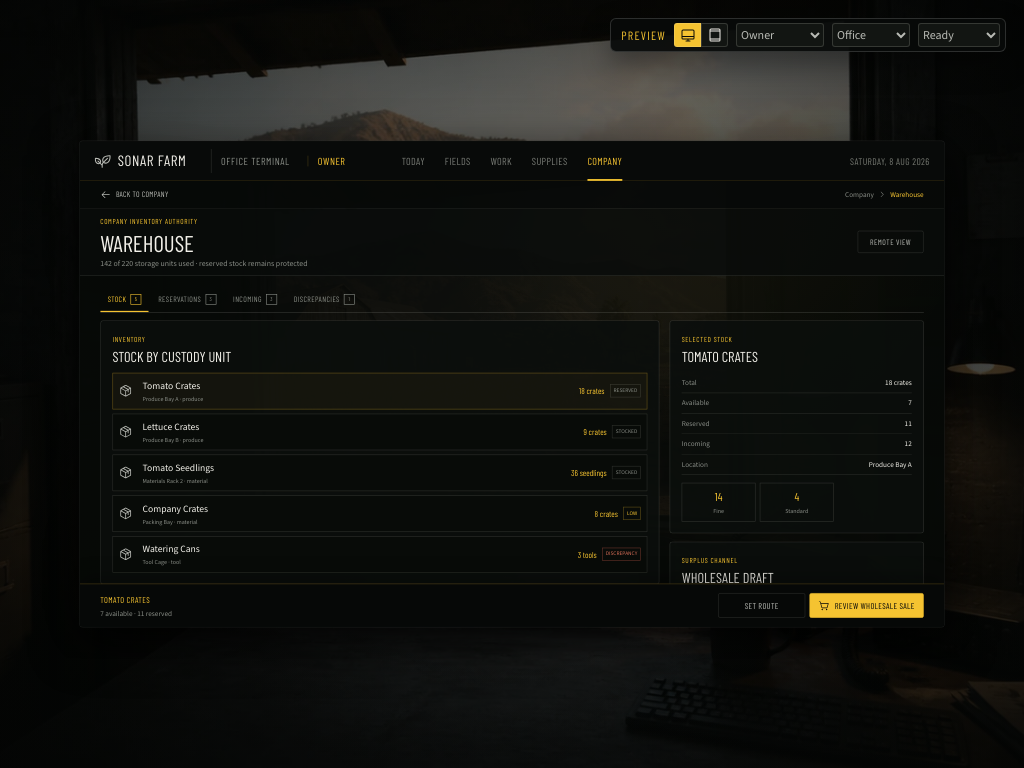
Test: Farm Business Hub › uses shared unavailable state for a Company deep view
Expected: the heading "Warehouse" is shown, [100,229,194,257]
Select "unavailable" in the dropdown named "Preview state" at coordinates (959, 35), box [918,23,1000,47]
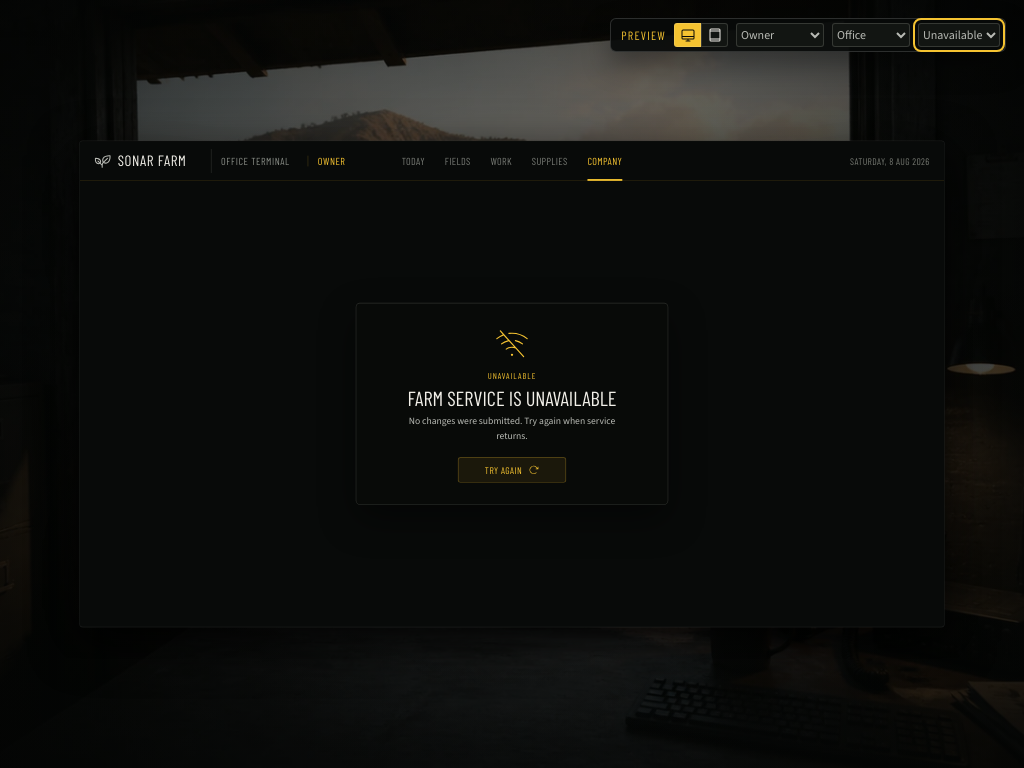
Result: the heading "Farm service is unavailable" is shown at [407,388,617,408]
